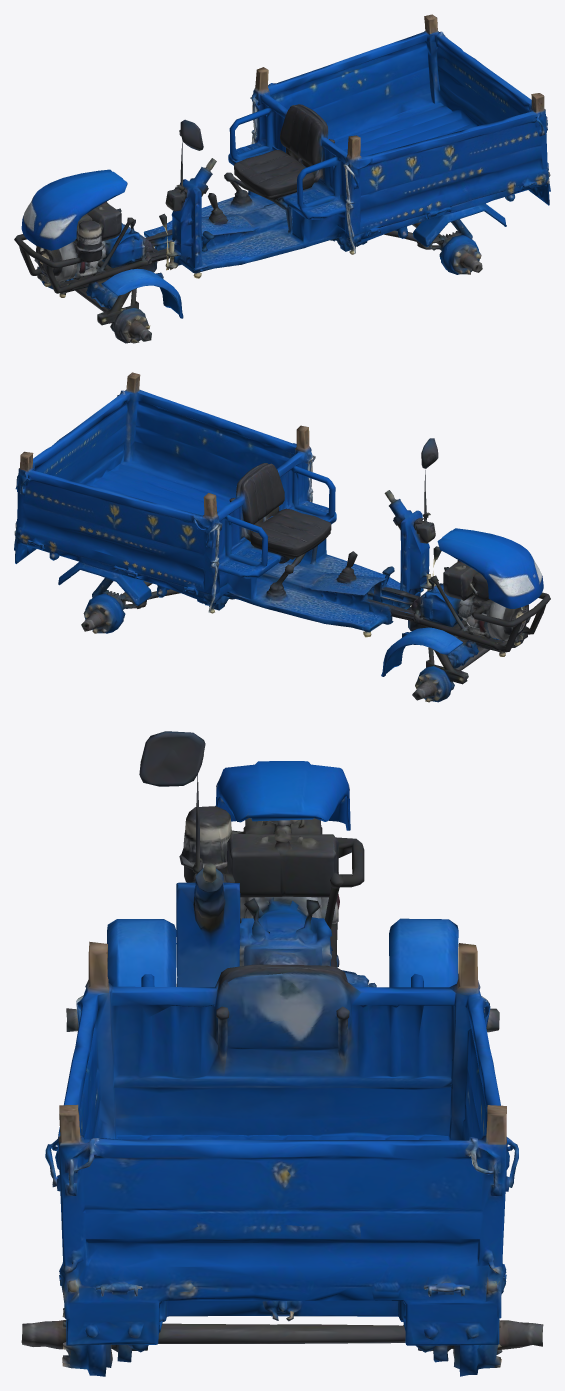
Rendered from patpat_tum.glb.
The picture shows the model from 3 angles, top to bottom: view 1: azimuth 30°, elevation 25°; view 2: azimuth 150°, elevation 25°; view 3: azimuth 270°, elevation 25°; orthographic projection. The views are drawn at different scales.
Visible parts, largest first — view 1: tripo_node_fe2f0a49-5cf8-4a6a-b511-a2f198a06bb6; view 2: tripo_node_fe2f0a49-5cf8-4a6a-b511-a2f198a06bb6; view 3: tripo_node_fe2f0a49-5cf8-4a6a-b511-a2f198a06bb6.
Part boxes in pixels (left/top/right/bottom): tripo_node_fe2f0a49-5cf8-4a6a-b511-a2f198a06bb6: left=14, top=14, right=550, bottom=343; tripo_node_fe2f0a49-5cf8-4a6a-b511-a2f198a06bb6: left=14, top=372, right=550, bottom=702; tripo_node_fe2f0a49-5cf8-4a6a-b511-a2f198a06bb6: left=21, top=731, right=543, bottom=1376.
Bounding box in the file's own units: 0.9813 × 0.3958 × 0.4713.
Materials: 1 (1 with a texture image).
